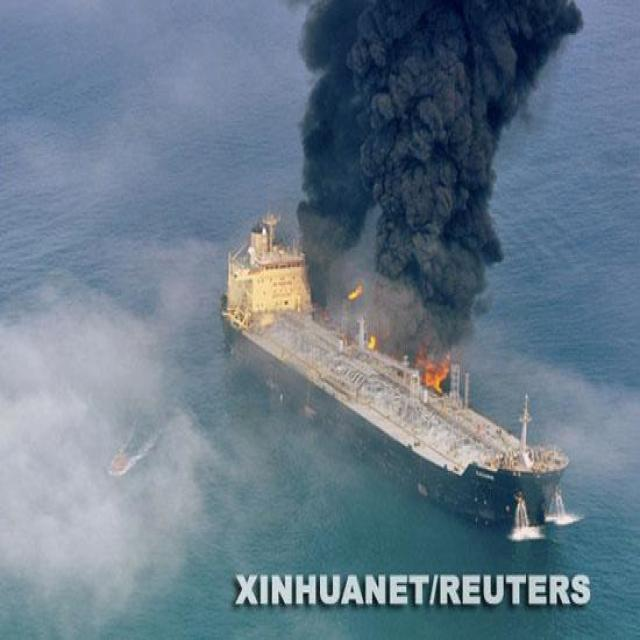fire: (412, 349, 446, 391), (345, 276, 363, 299)
smoke: (291, 8, 590, 348)
